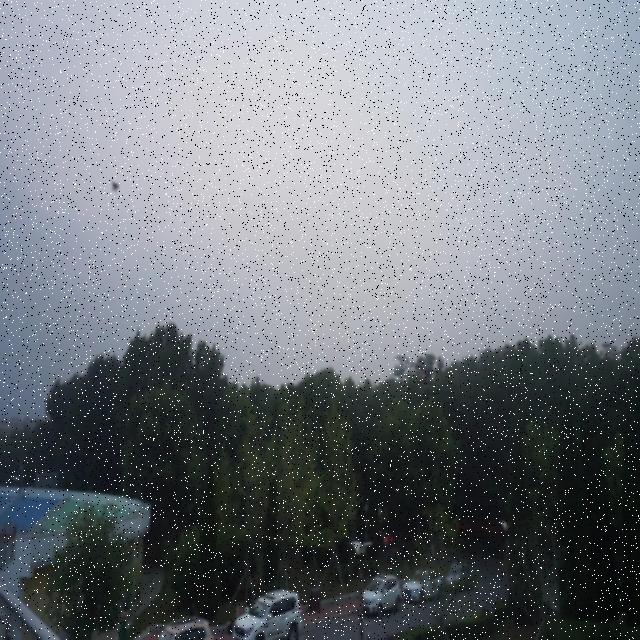UAV: (111, 179, 120, 194)
